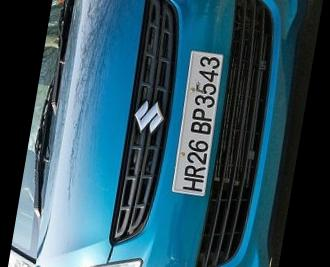plate: (155, 37, 247, 206)
